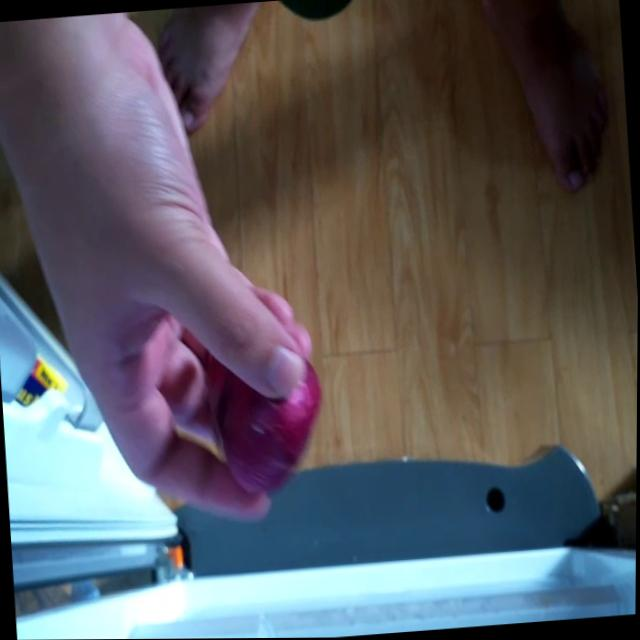onion: (189, 345, 332, 493)
